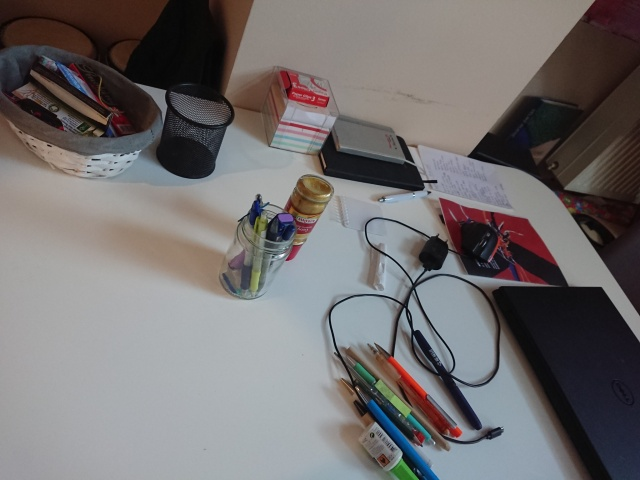Kotanyi Curry Spices Mix 70g: (266, 171, 337, 264)
